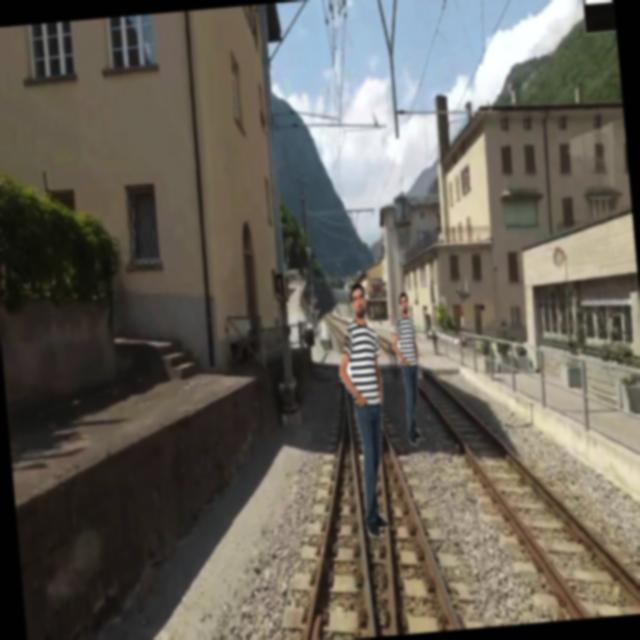danger: (331, 270, 402, 544), (389, 284, 435, 441)
rail: (363, 333, 640, 640), (280, 309, 480, 633)
